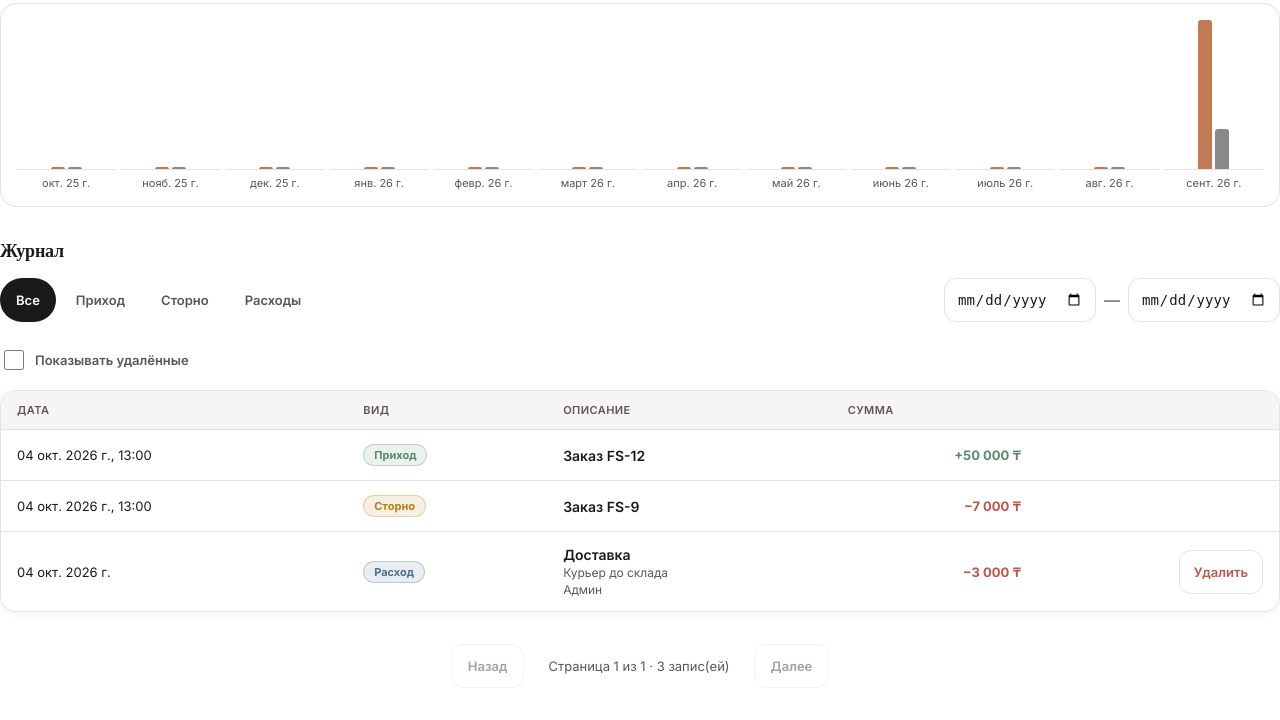
Test: deleting an expense › backs out without a request
This screenshot has width=1280, height=720.
(page scrolled)
Check: the text "Заказ FS-12" is shown, box [563,446,645,464]
What coordinates should you click on to do the following:
click the button with aria-label "Удалить расход 3"
I would click on:
 (1221, 572)
Its box is [1179,550,1263,594].
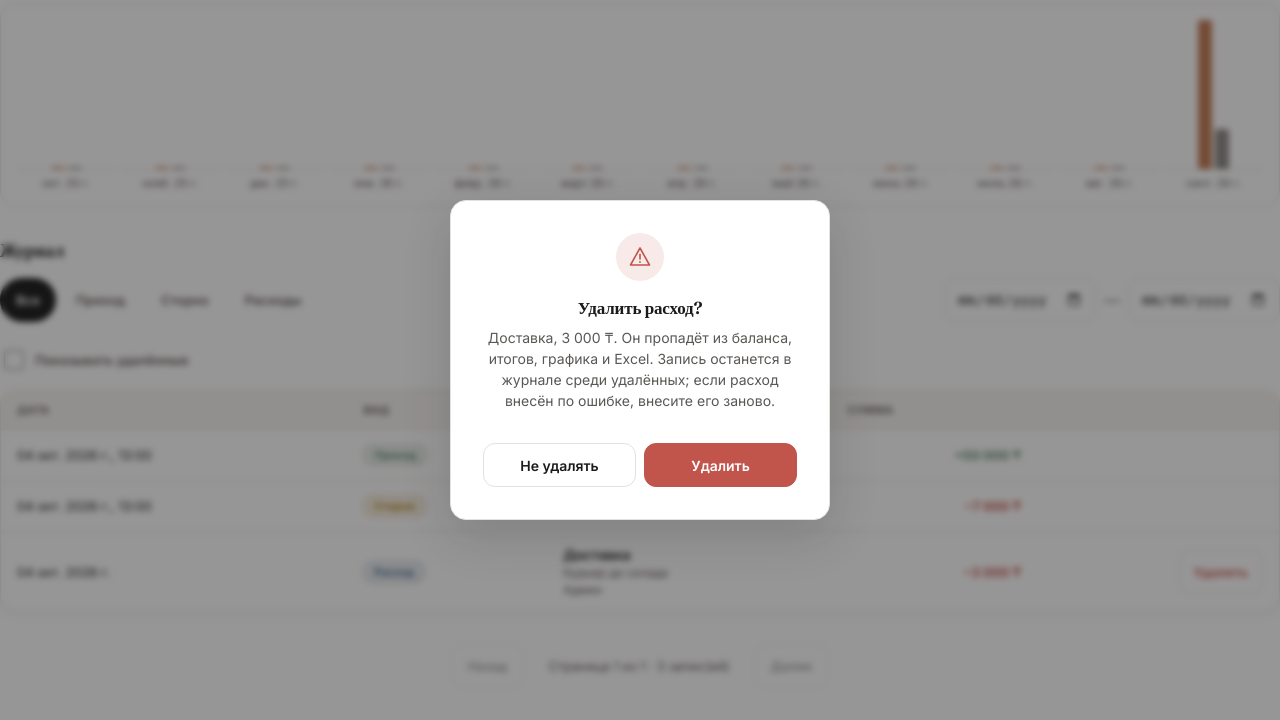
What coordinates should you click on to do the following:
click the button "Не удалять"
I would click on:
 (560, 465)
Its box is [483,443,636,487].
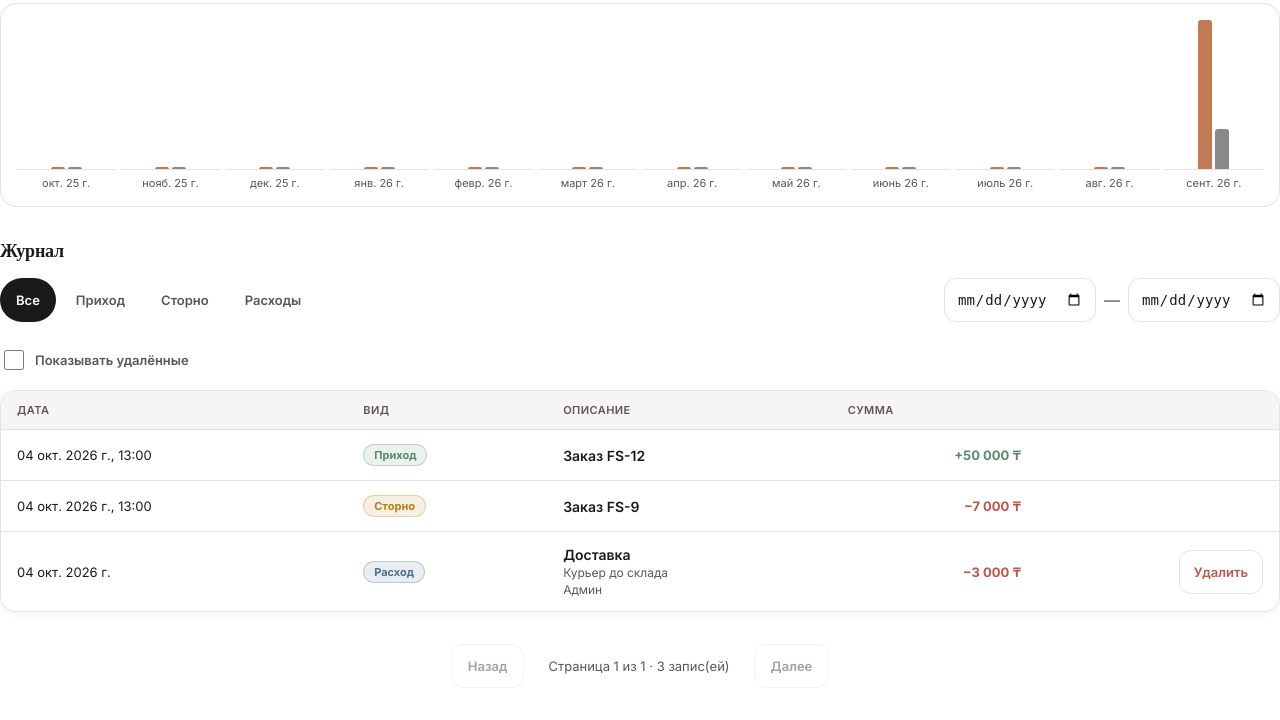
Check: the dialog is gone
